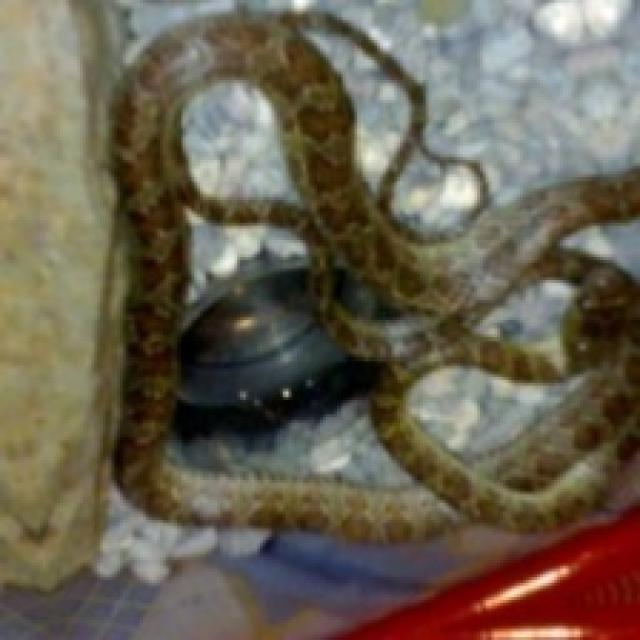mullers wolf snake: (114, 11, 637, 537), (166, 209, 417, 489), (306, 31, 409, 191), (180, 77, 300, 203), (406, 366, 560, 460), (477, 277, 571, 349)
